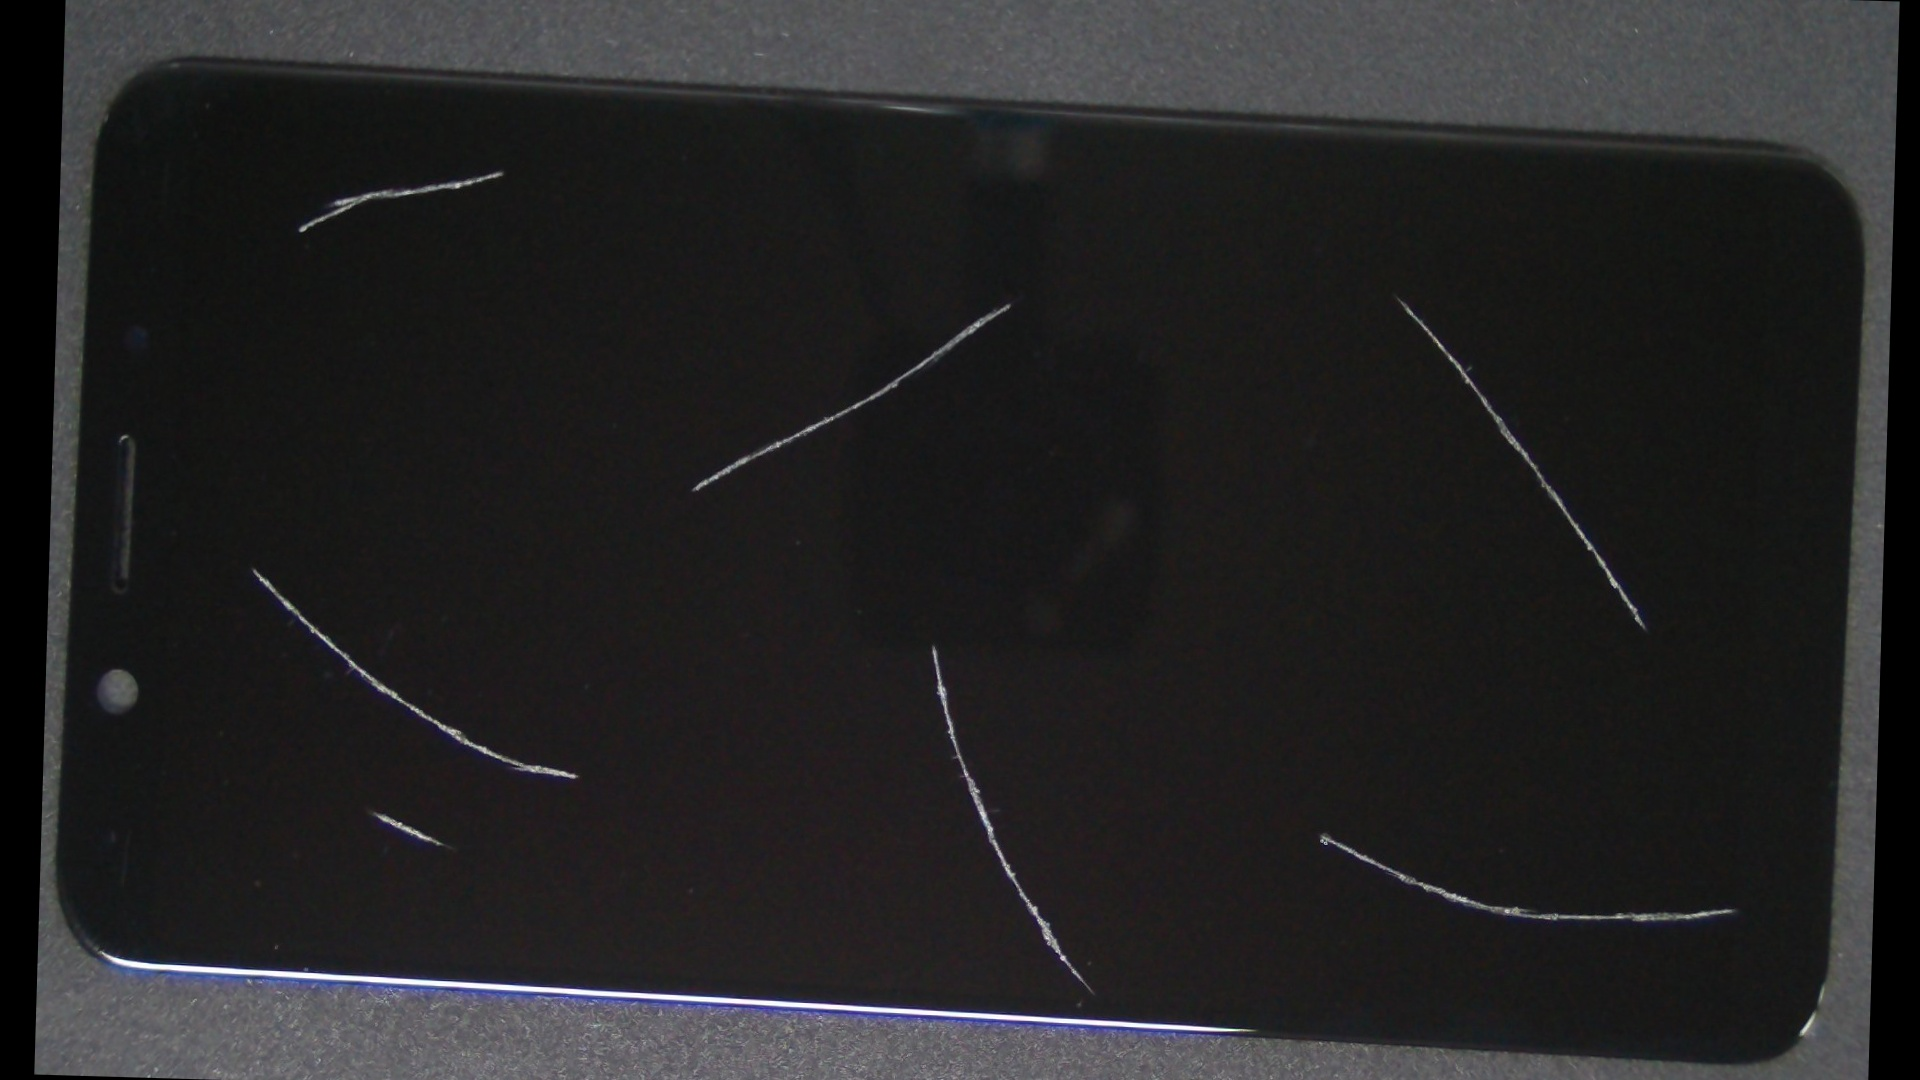oil: (676, 389, 1887, 1080), (480, 294, 1385, 992), (723, 121, 1895, 465), (529, 125, 1489, 481), (199, 378, 549, 1080), (144, 256, 364, 877), (277, 58, 720, 281)
